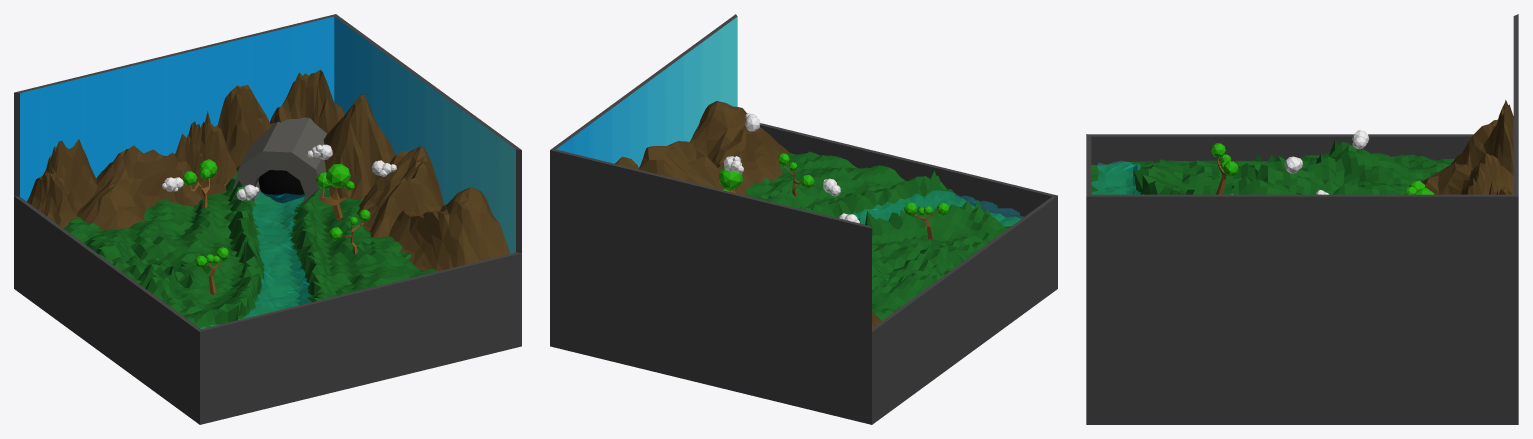
3 renders of one model, left to right at view 1: azimuth 30°, elevation 25°; view 2: azimuth 150°, elevation 25°; view 3: azimuth 270°, elevation 25°, orthographic. The views are drawn at different scales.
Parts seen in each view (by area): view 1: wadah, Plane, Landscape_5, Landscape_1, Null, Landscape_6_2, terowongan_2, Landscape_5_2, Landscape_3, Landscape_2, Landscape, Landscape_4_2 (+2 smaller); view 2: wadah, Plane, Landscape_5, Landscape_6_2, Null; view 3: wadah, Plane, Landscape_1, Landscape_3, Null.
Part boxes in pixels (bbox=[...]): wadah: bbox=[14, 14, 521, 424]; Plane: bbox=[63, 165, 438, 329]; Landscape_5: bbox=[388, 187, 510, 270]; Landscape_1: bbox=[77, 145, 181, 230]; Null: bbox=[157, 191, 311, 328]; Landscape_6_2: bbox=[357, 146, 444, 237]; terowongan_2: bbox=[233, 117, 329, 202]; Landscape_5_2: bbox=[323, 94, 395, 200]; Landscape_3: bbox=[27, 139, 97, 227]; Landscape_2: bbox=[174, 111, 237, 206]; Landscape: bbox=[217, 85, 271, 167]; Landscape_4_2: bbox=[270, 69, 345, 133]; wadah: bbox=[550, 14, 1057, 424]; Plane: bbox=[744, 151, 1020, 320]; Landscape_5: bbox=[689, 101, 789, 190]; Landscape_6_2: bbox=[639, 141, 750, 196]; Null: bbox=[854, 190, 1023, 279]; wadah: bbox=[1086, 14, 1518, 424]; Plane: bbox=[1091, 140, 1454, 194]; Landscape_1: bbox=[1421, 153, 1513, 194]; Landscape_3: bbox=[1451, 100, 1513, 175]; Null: bbox=[1091, 161, 1140, 194].
Size of the model in its own units: 5100 by 2971 by 5100.
Materials: 10 (1 with a texture image).
